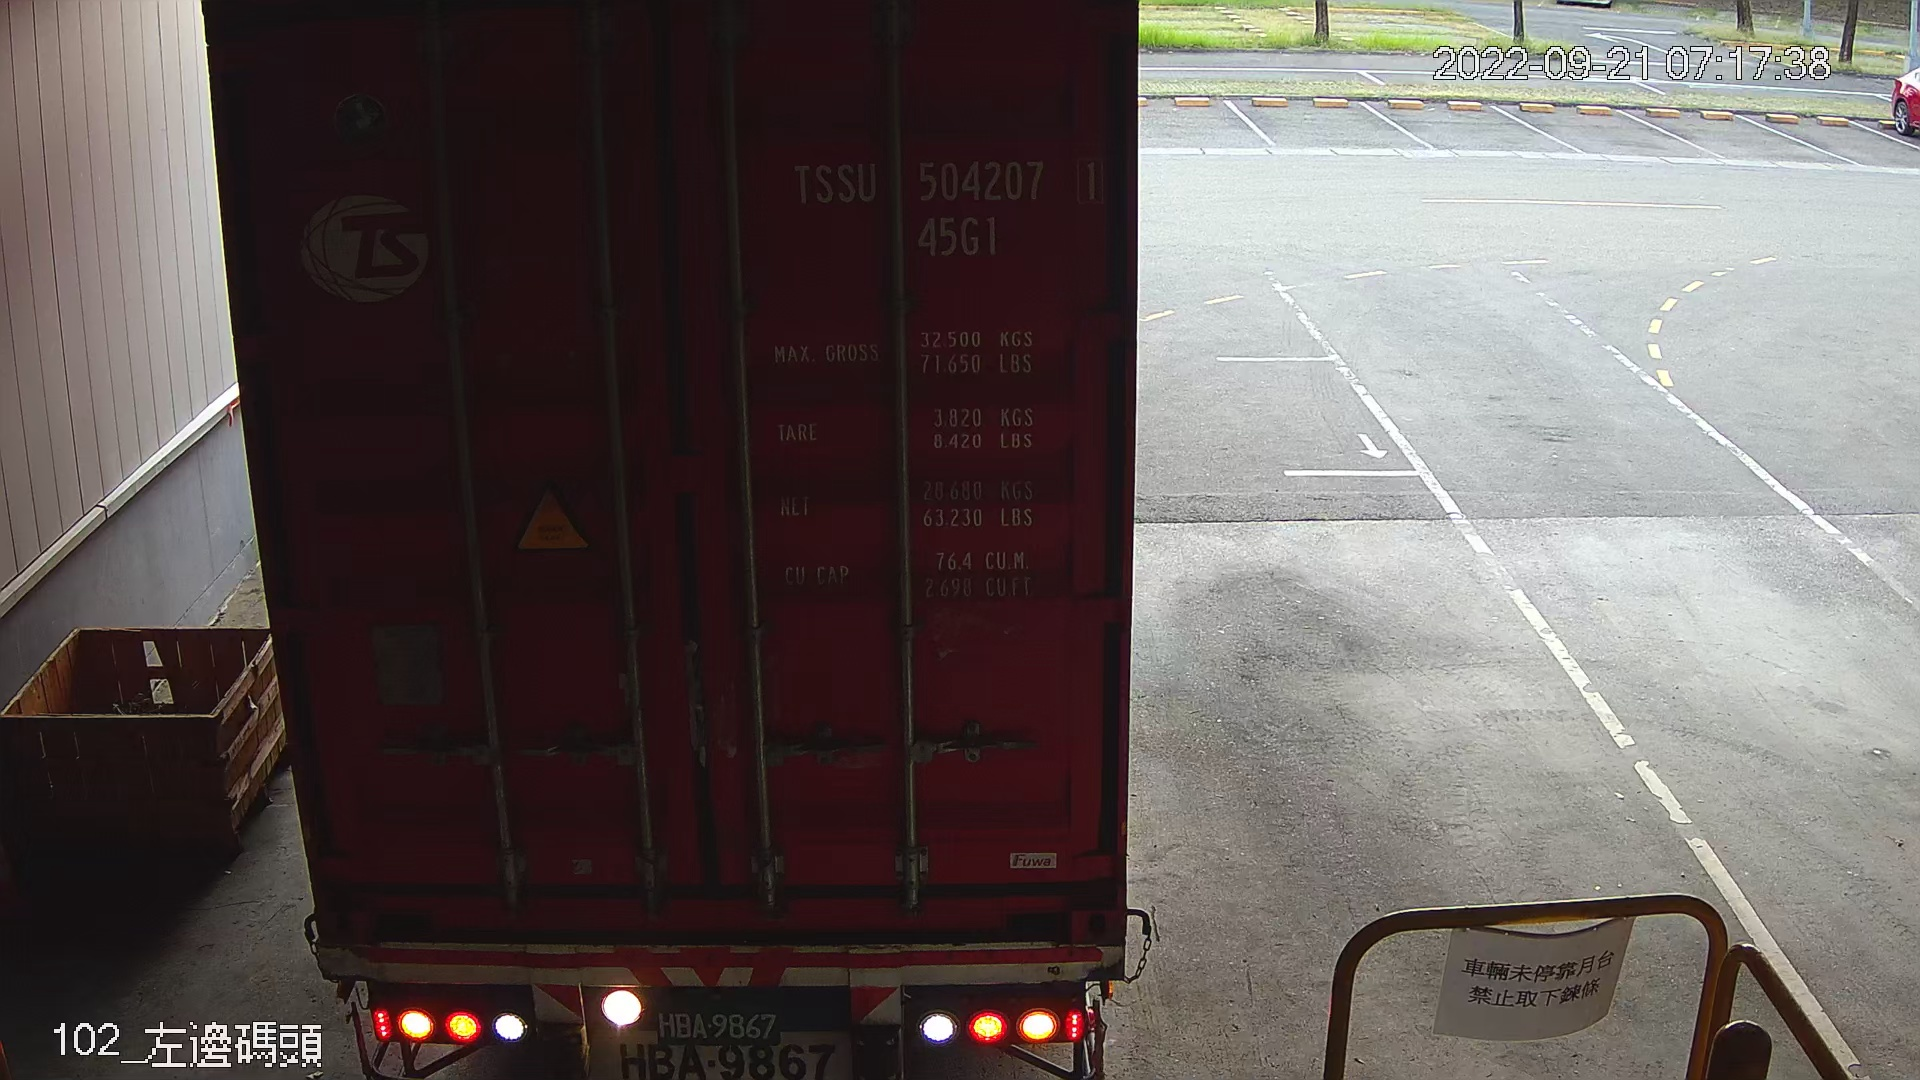container: (775, 148, 1120, 266)
